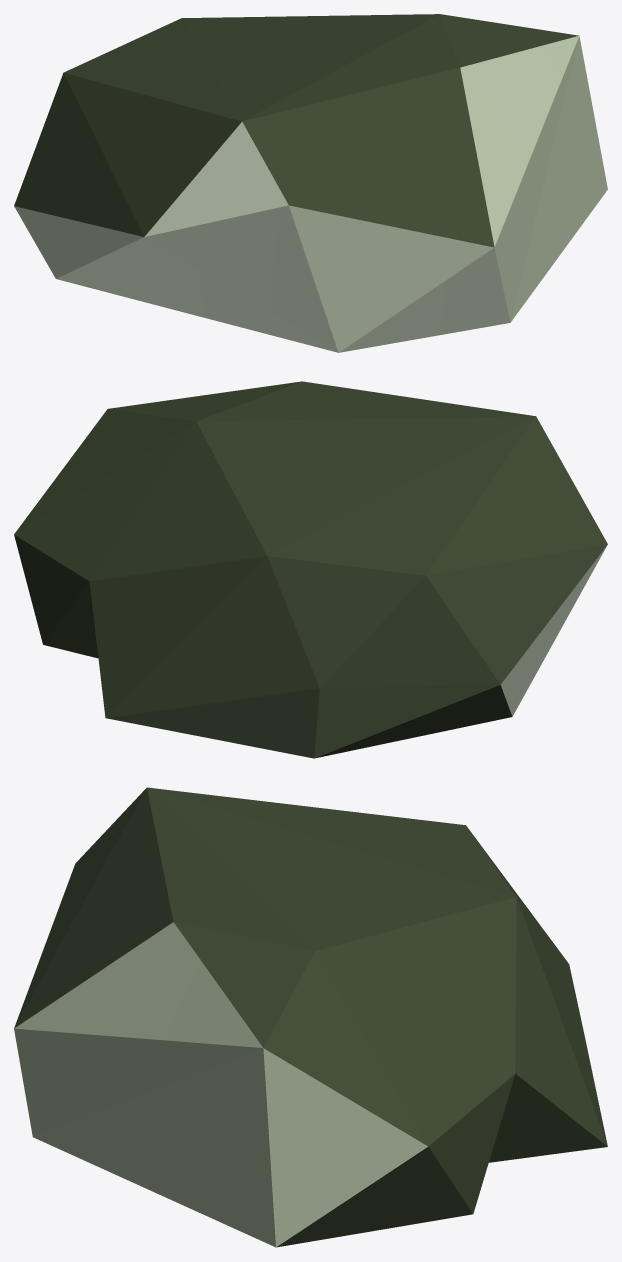
Rendered from EA_Rock31.glb.
The picture shows the model from 3 angles, top to bottom: view 1: azimuth 30°, elevation 25°; view 2: azimuth 150°, elevation 25°; view 3: azimuth 270°, elevation 25°; orthographic projection. The views are drawn at different scales.
Parts seen in each view (by area): view 1: EA_Rock31; view 2: EA_Rock31; view 3: EA_Rock31.
Part boxes in pixels (x1=…): EA_Rock31: x1=14, y1=14, x2=607, y2=352; EA_Rock31: x1=14, y1=381, x2=607, y2=758; EA_Rock31: x1=14, y1=787, x2=607, y2=1247.
Size of the model in its own units: 0.8101 by 0.3206 by 0.7347.
1 material, 1 textured.
